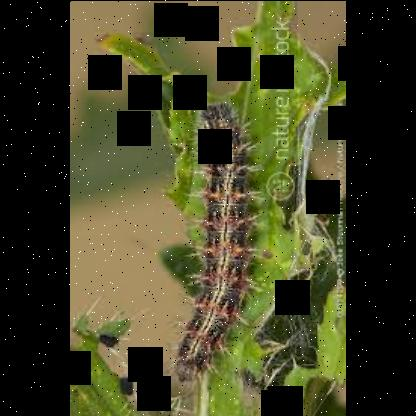oruga: (166, 98, 256, 376)
